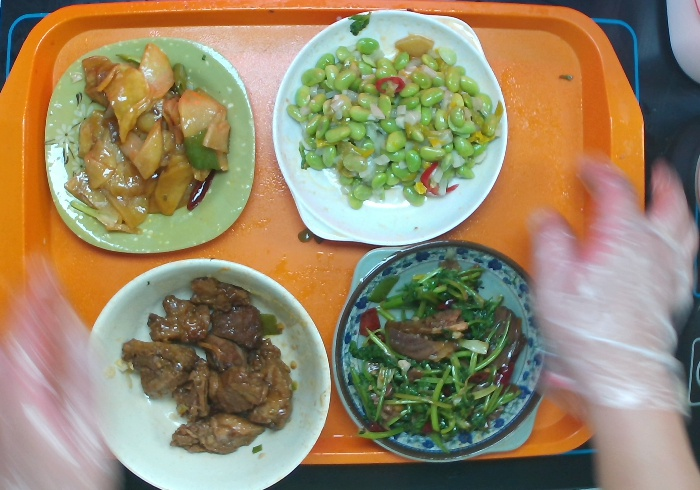NLDX-Bai_Se_Shuang_Er_Die: (268, 8, 510, 248)
NLDX-Bai_Se_Yuan_Wan: (88, 257, 331, 490)
NLDX-Lv_Hua_Fang_Die: (43, 33, 259, 257)
NLDX-Qing_Hua_Shuang_Er_Die: (333, 235, 554, 463)
